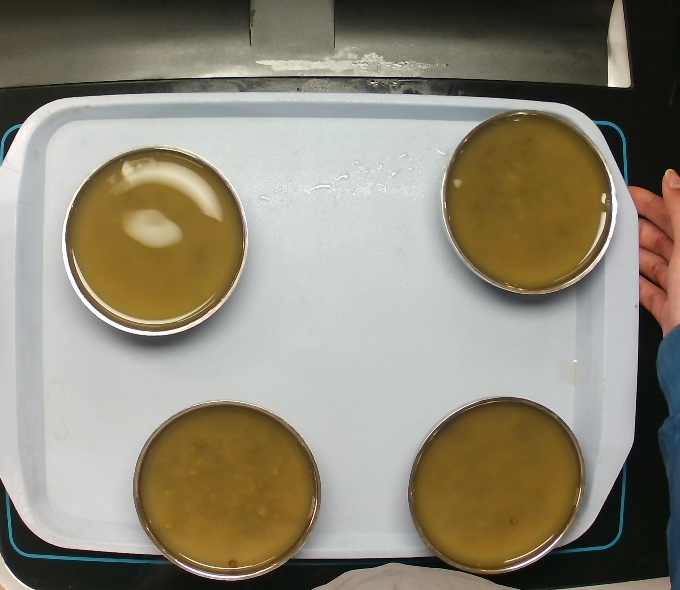wcq-LvDouTang: (58, 143, 250, 340), (130, 400, 323, 580), (434, 115, 620, 295), (406, 395, 587, 574)
